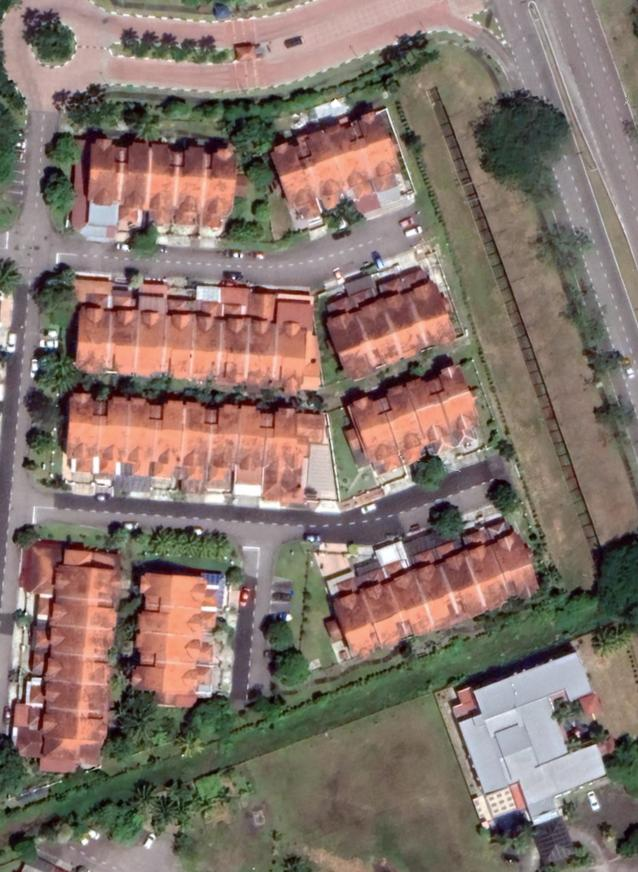building: (258, 406, 315, 505), (327, 585, 387, 665), (321, 307, 383, 384), (343, 390, 402, 465), (128, 663, 215, 710), (414, 557, 467, 633), (267, 139, 322, 212), (361, 575, 415, 649), (441, 549, 493, 625), (323, 115, 376, 189), (408, 277, 461, 351), (383, 287, 435, 362), (389, 565, 441, 640), (491, 528, 542, 603), (354, 297, 407, 369), (298, 126, 349, 200), (405, 371, 455, 445), (353, 107, 405, 178), (433, 362, 483, 435), (135, 568, 220, 610), (466, 538, 514, 612), (382, 380, 429, 455), (71, 301, 115, 375), (48, 560, 120, 605), (84, 136, 126, 209), (131, 633, 216, 669), (63, 390, 105, 461), (35, 710, 111, 747), (206, 145, 240, 224), (132, 608, 217, 638), (45, 599, 120, 632), (178, 143, 210, 219), (41, 655, 112, 689), (153, 138, 184, 215), (99, 395, 133, 465), (42, 681, 110, 716), (47, 627, 118, 660), (185, 398, 216, 473), (125, 138, 155, 214), (158, 395, 188, 470), (195, 311, 226, 383), (212, 401, 243, 473), (139, 307, 170, 377), (240, 401, 269, 475), (250, 315, 280, 385), (130, 395, 160, 465), (113, 305, 142, 377), (169, 308, 197, 381), (281, 318, 308, 392), (223, 315, 251, 385), (38, 737, 105, 766)
